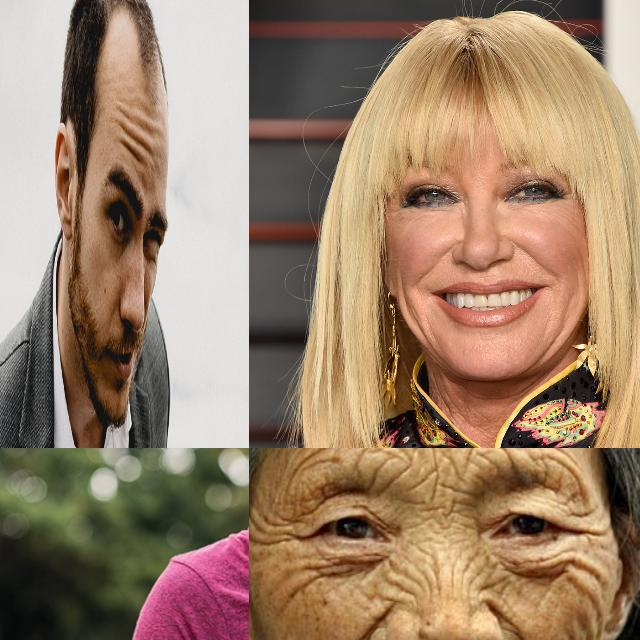bunny_line: (386, 561, 429, 607), (461, 556, 501, 600)
crows_feet: (256, 514, 300, 550), (581, 510, 609, 548)
forehead: (116, 101, 151, 166)
frown_line: (418, 452, 467, 522)
gummy_smile: (507, 234, 555, 272), (503, 613, 552, 640), (414, 245, 454, 277), (332, 611, 372, 640)
masseter: (538, 321, 572, 367), (398, 288, 427, 338)
